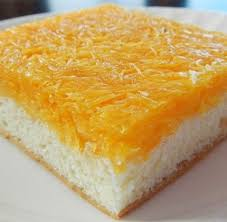foitong: (4, 10, 226, 131)
